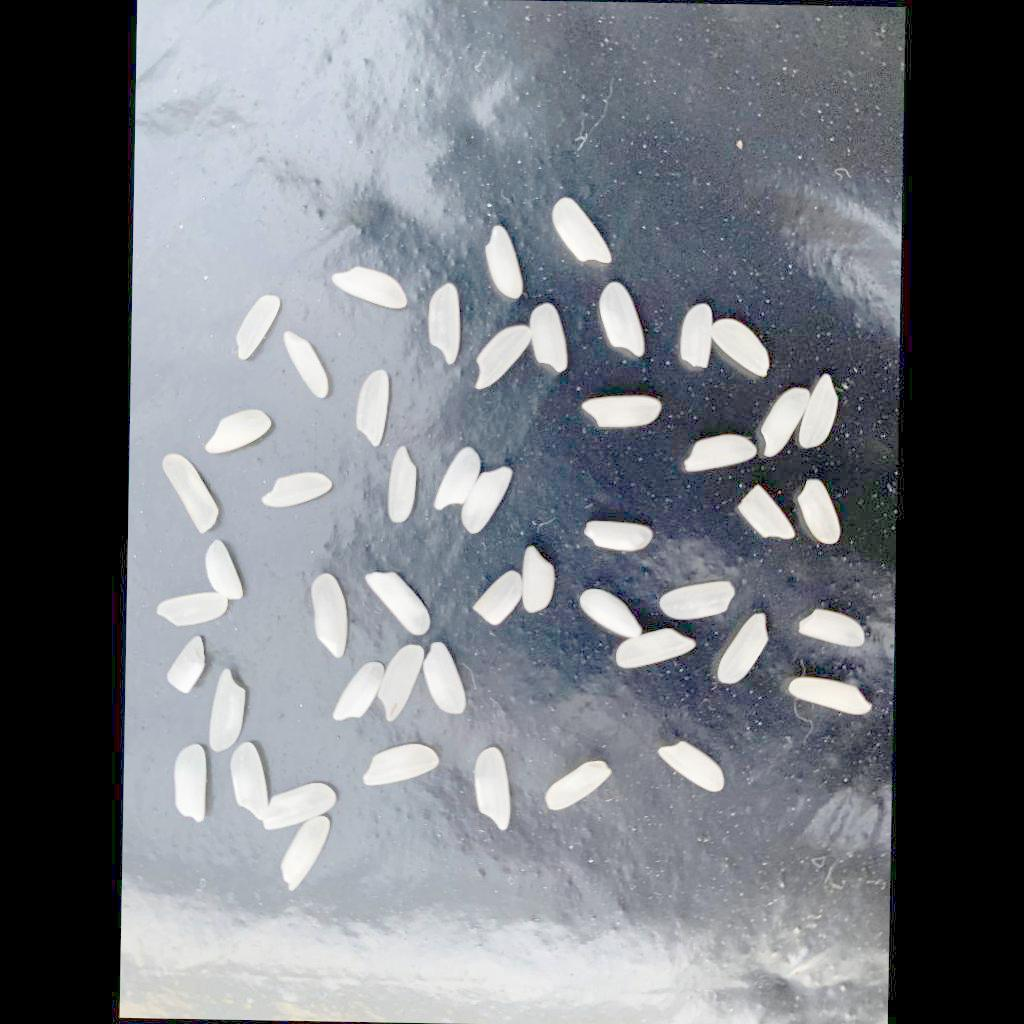rice: (162, 455, 222, 536), (365, 571, 432, 637), (552, 198, 614, 264), (281, 815, 332, 893), (265, 781, 339, 833), (718, 613, 770, 687), (476, 327, 532, 394), (377, 646, 425, 724), (599, 283, 647, 359), (462, 467, 514, 536), (657, 742, 725, 794), (363, 743, 441, 788), (547, 760, 614, 812), (333, 266, 410, 311), (762, 388, 810, 460), (615, 628, 697, 670), (712, 319, 771, 377), (230, 742, 271, 823), (282, 332, 330, 401), (424, 643, 469, 716), (312, 574, 350, 660), (790, 677, 873, 716), (659, 581, 737, 622), (433, 446, 481, 512), (476, 747, 513, 832), (740, 485, 797, 540), (581, 589, 644, 638), (206, 410, 273, 456), (336, 663, 387, 723), (237, 296, 282, 363), (485, 226, 525, 301), (473, 571, 525, 628), (210, 670, 245, 754), (801, 375, 839, 450), (685, 435, 758, 474), (174, 743, 209, 823), (799, 480, 842, 545), (357, 370, 392, 449), (531, 303, 570, 373), (429, 284, 462, 366), (582, 397, 664, 430), (262, 473, 334, 510), (799, 609, 867, 648), (158, 592, 230, 628), (206, 541, 246, 602), (389, 446, 419, 523), (524, 545, 557, 615), (168, 636, 207, 694), (681, 304, 713, 370), (586, 523, 654, 553)
